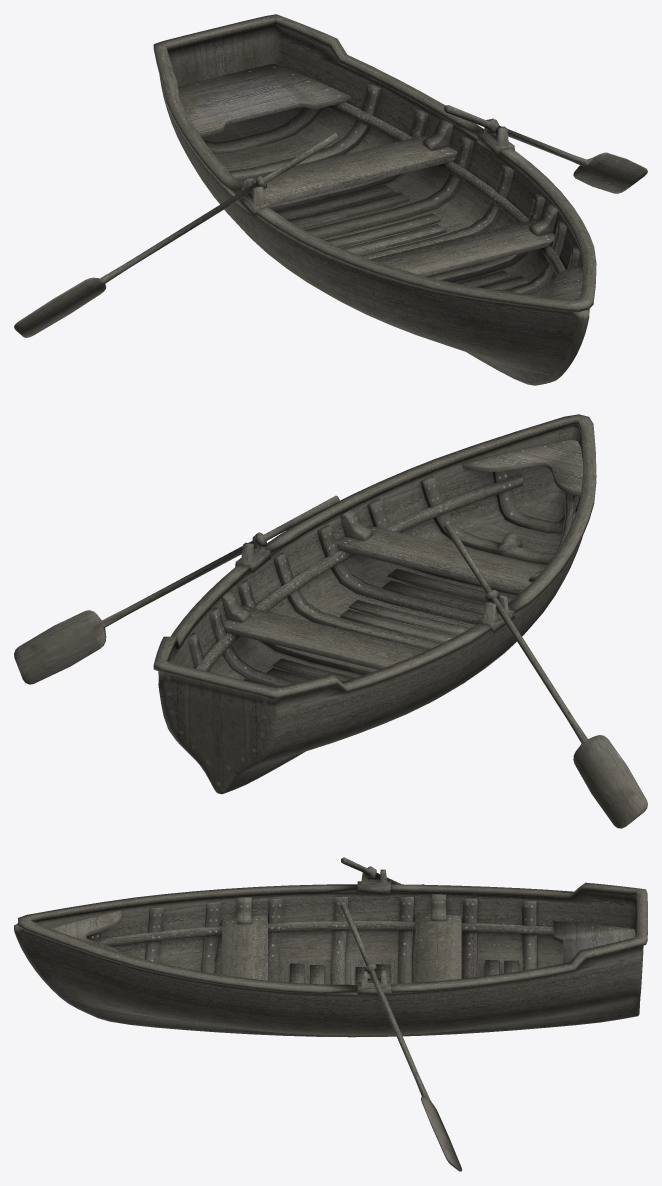
File: rowboat.glb
The picture shows the model from 3 angles, top to bottom: view 1: azimuth 30°, elevation 25°; view 2: azimuth 150°, elevation 25°; view 3: azimuth 270°, elevation 25°; orthographic projection. The views are drawn at different scales.
Visible parts, largest first — view 1: Hull, OarPort, OarStarboard; view 2: Hull, OarStarboard, OarPort; view 3: Hull, OarStarboard.
Boxes of the visible parts, <box> form: Hull: <box>153,14,596,385</box>; OarPort: <box>14,132,339,337</box>; OarStarboard: <box>444,105,647,193</box>; Hull: <box>153,414,596,794</box>; OarStarboard: <box>14,495,339,684</box>; OarPort: <box>443,523,647,828</box>; Hull: <box>14,869,647,1037</box>; OarStarboard: <box>341,904,461,1171</box>.
Bounding box in the file's own units: 3.92 × 1.17 × 4.
Materials: 1 (1 with a texture image).
